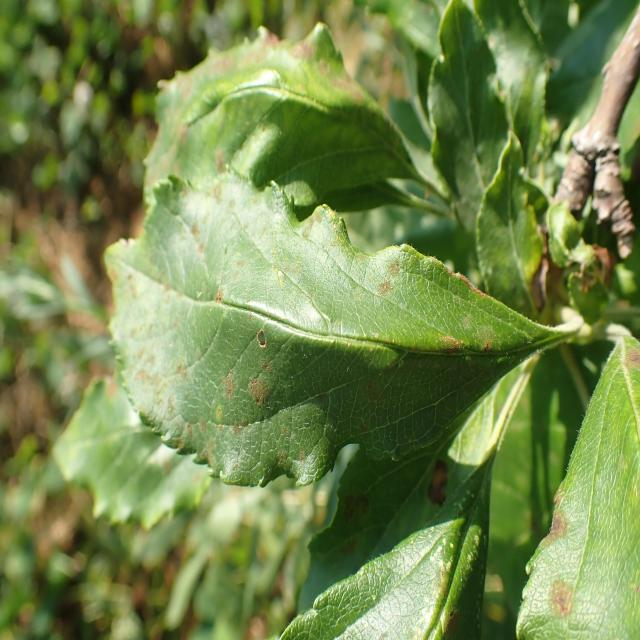scab: (89, 175, 516, 474), (98, 15, 422, 170), (536, 315, 640, 640)
